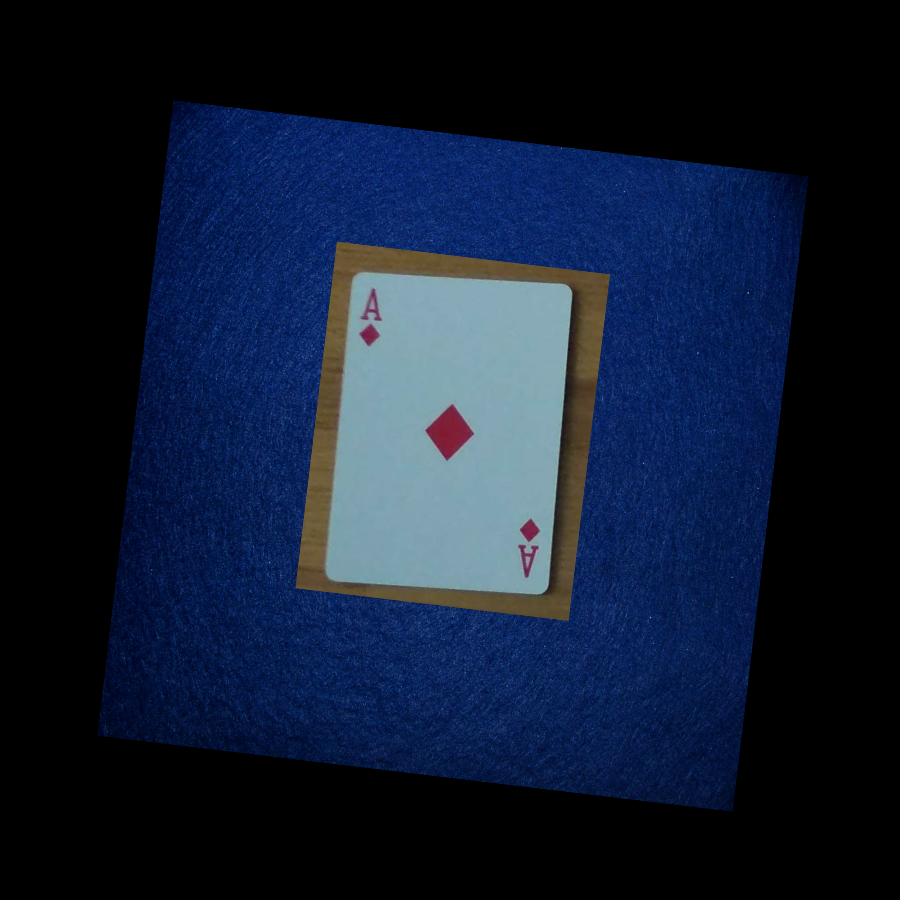1F: (499, 502, 554, 593), (348, 269, 395, 363)
